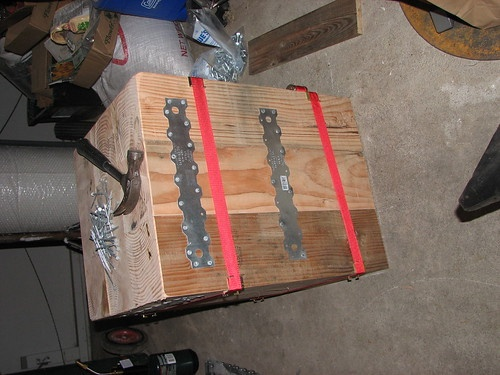hammer: (73, 135, 143, 221)
